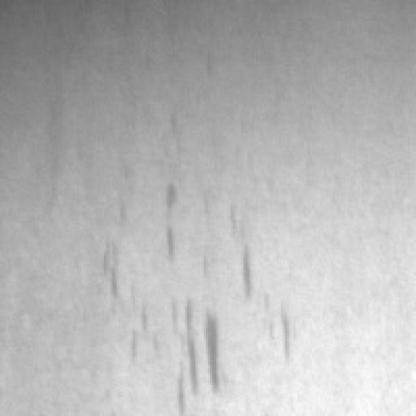inclusion: (162, 283, 227, 410), (237, 231, 300, 358), (152, 177, 188, 266)
